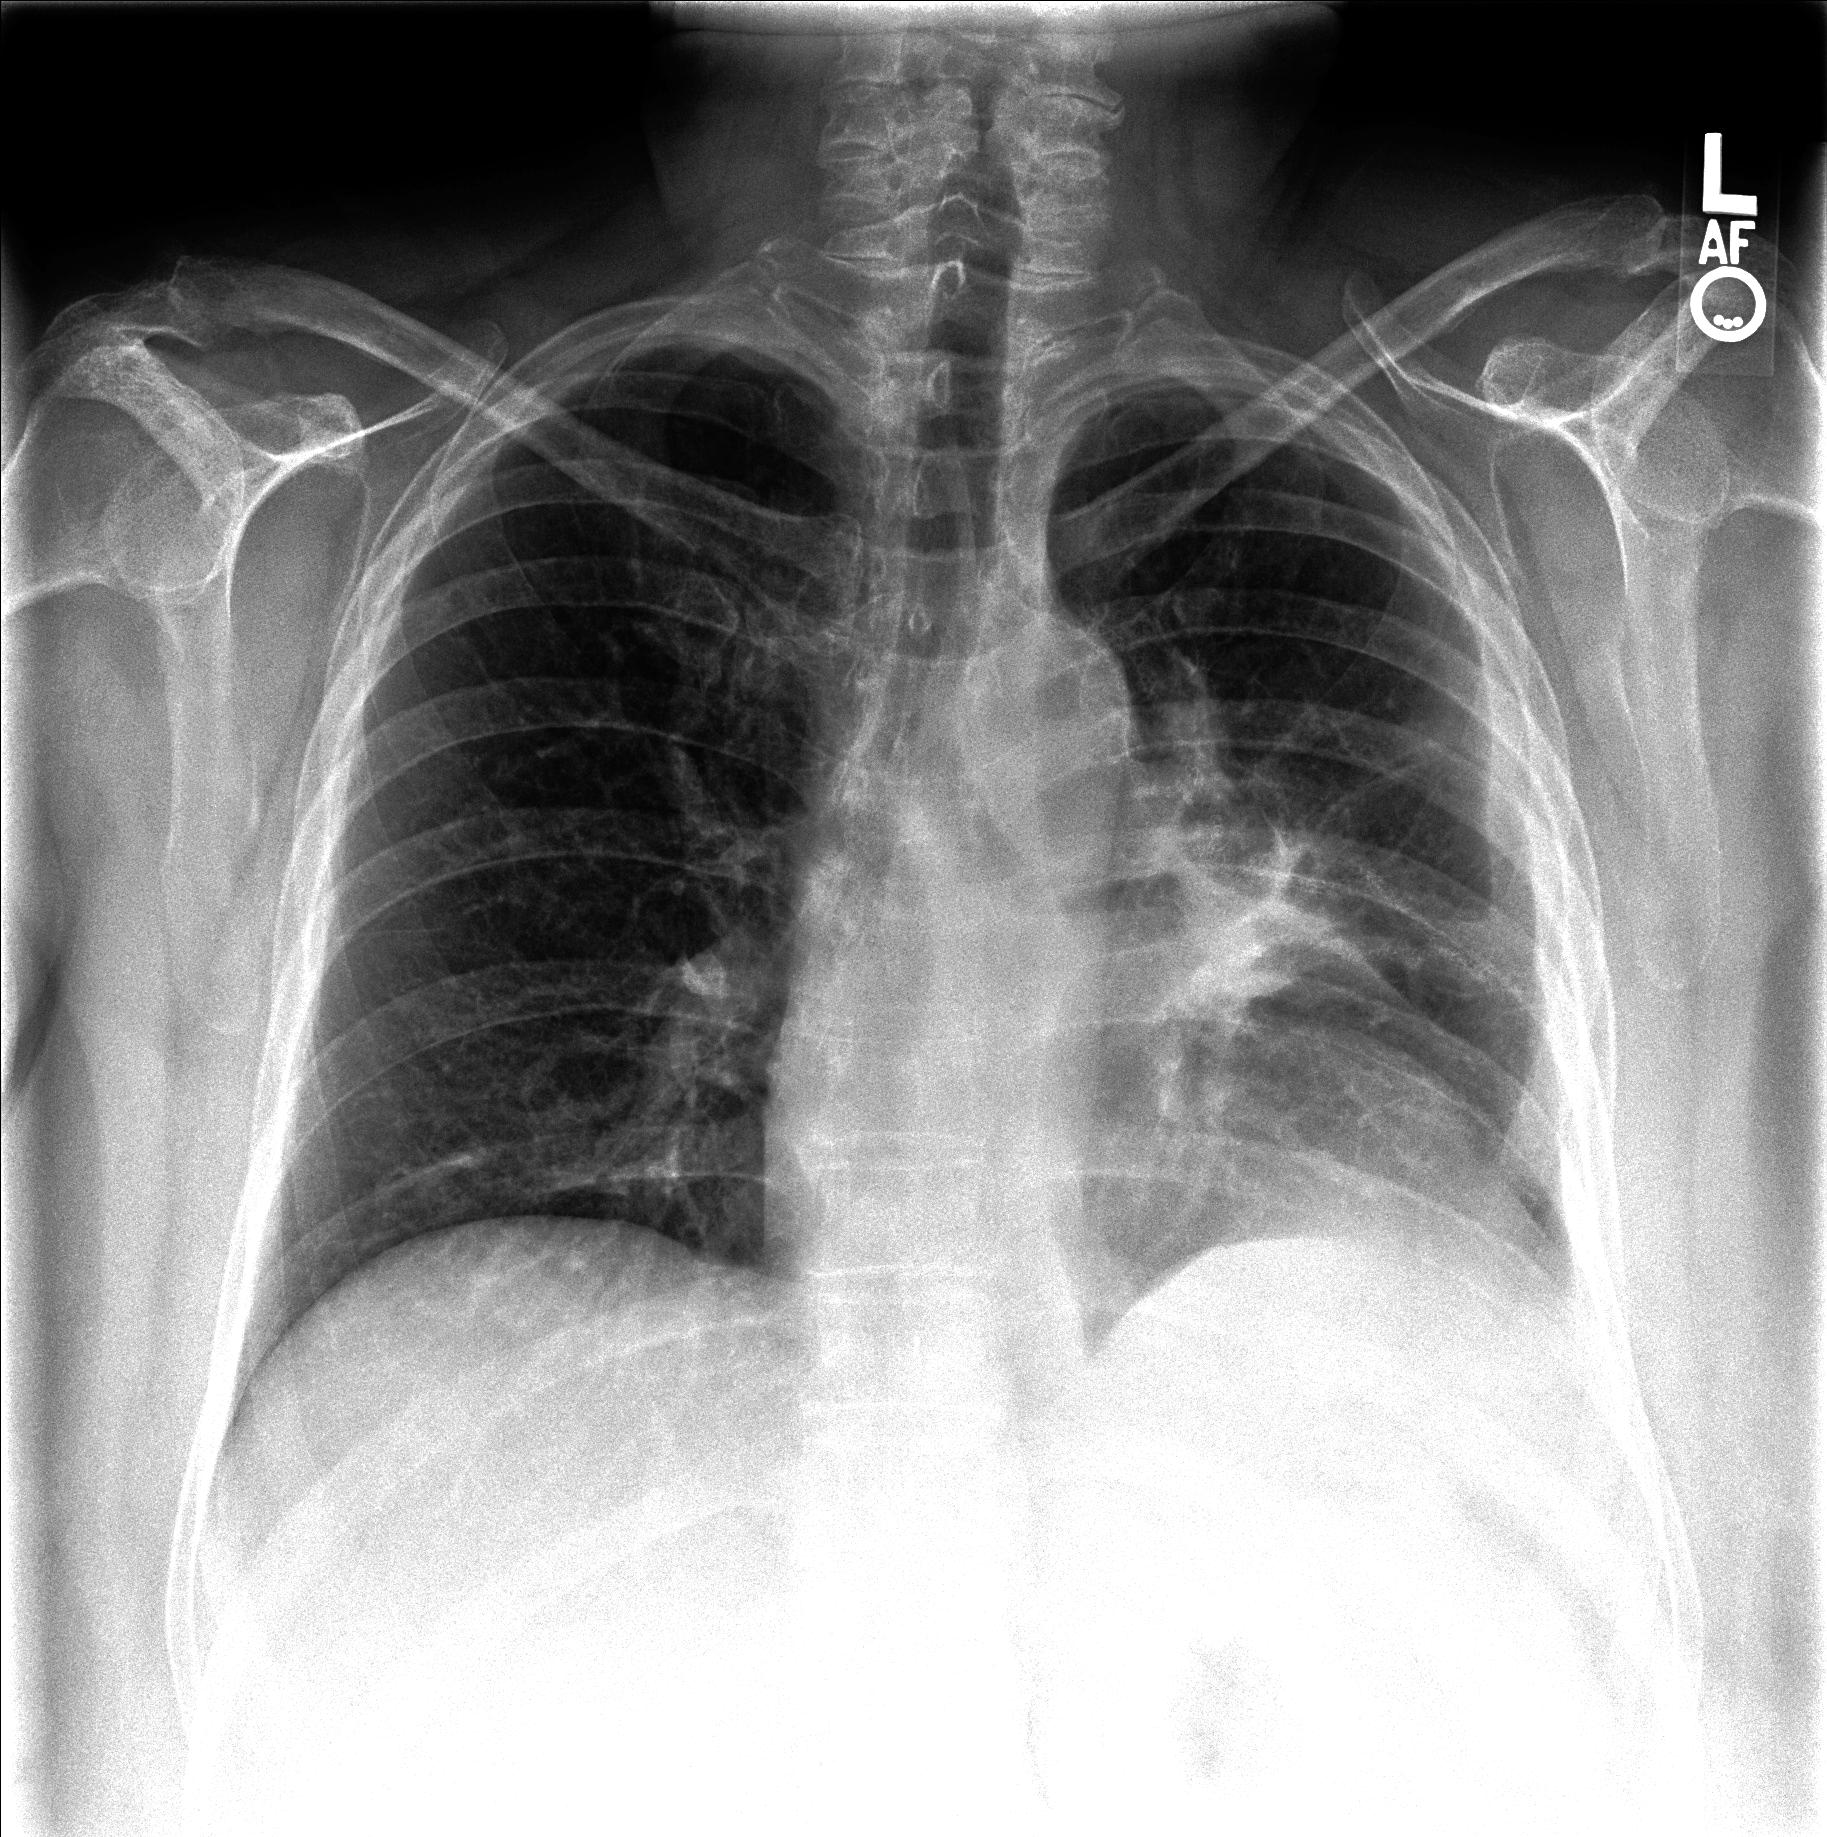Pleural Effusion: (1218, 1226, 1693, 1614)
